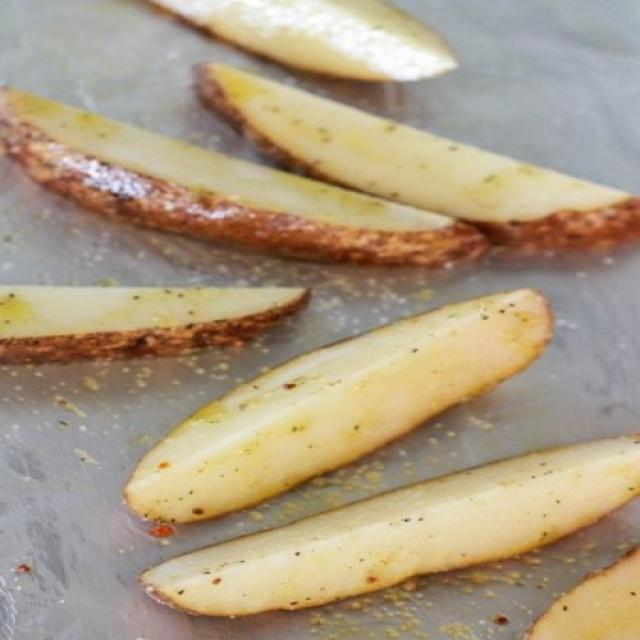potato: (124, 284, 554, 524), (0, 83, 482, 277), (139, 432, 640, 616), (190, 59, 640, 254), (127, 0, 466, 82), (2, 281, 312, 365), (529, 542, 640, 639)
